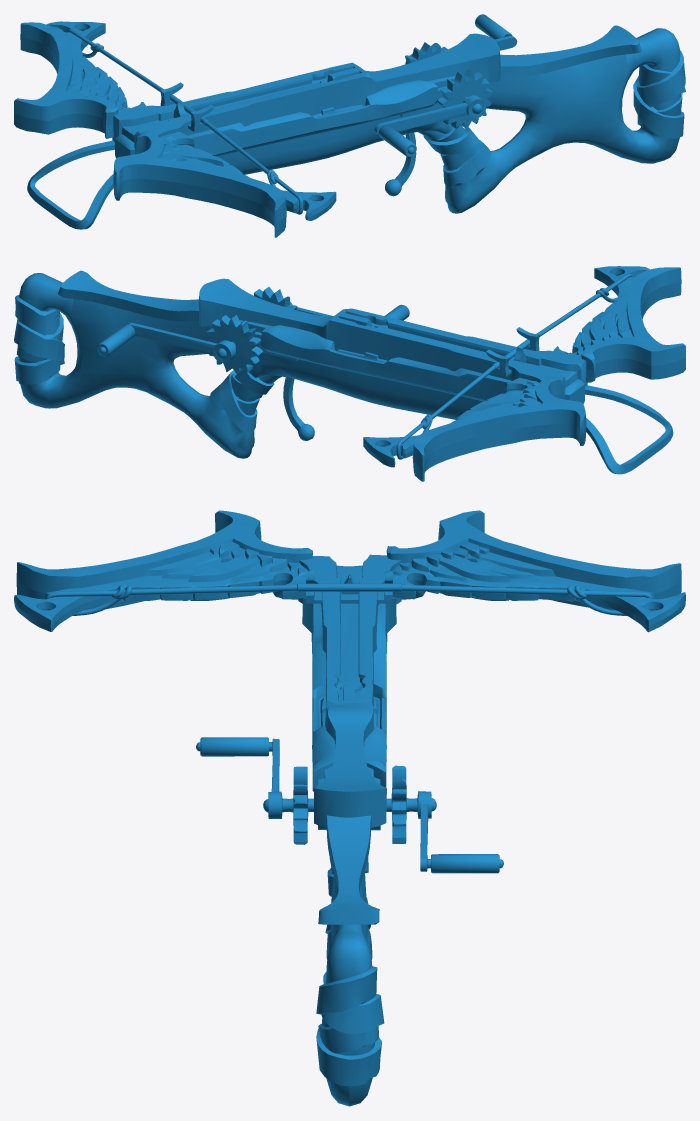
The model's file is SM_Rune_Crossbow_3.obj.
The picture shows the model from 3 angles, top to bottom: view 1: azimuth 30°, elevation 25°; view 2: azimuth 150°, elevation 25°; view 3: azimuth 270°, elevation 25°; orthographic projection. The views are drawn at different scales.
Size of the model in its own units: 1090 by 299 by 776.
